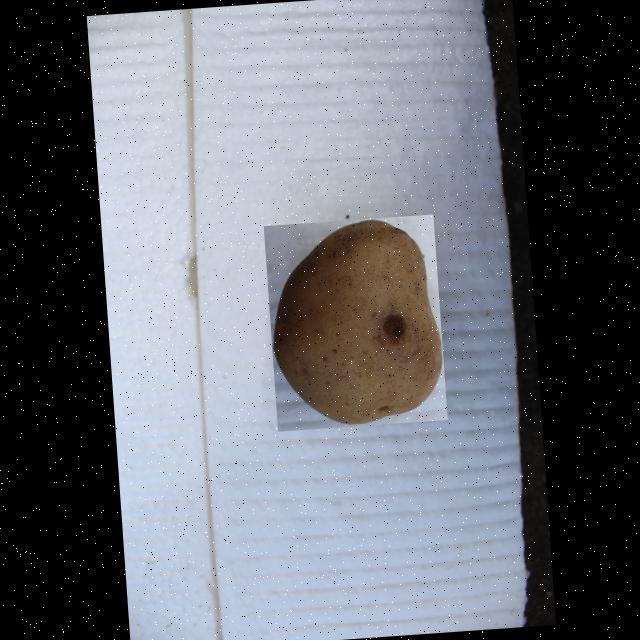Damaged potato: (263, 214, 447, 431)
